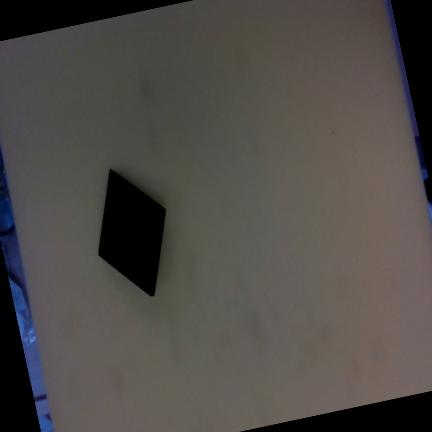tile: (93, 169, 167, 297)
